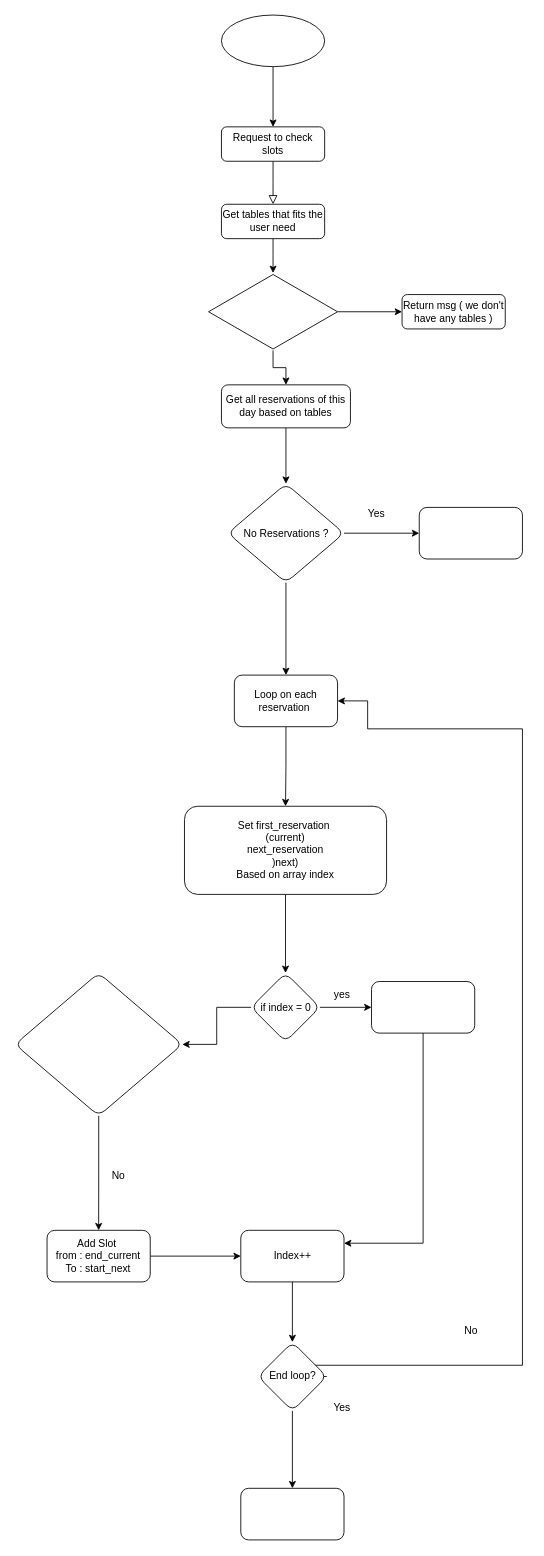
The diagram is 544 pixels wide and 1556 high, and some of its shapes have lost their labels. Here are the shapes that lost their labels. From the top down, the box of each, then its label:
(221, 14, 325, 67): Start
(208, 272, 338, 350): Any tables ?
(418, 507, 522, 559): Return all times from working_start_hour To Working_end_hour
(371, 981, 475, 1033): Add slot from : Date now To : current.startDate
(14, 972, 182, 1116): check end_current = start_next
(240, 1487, 344, 1540): Return slots
